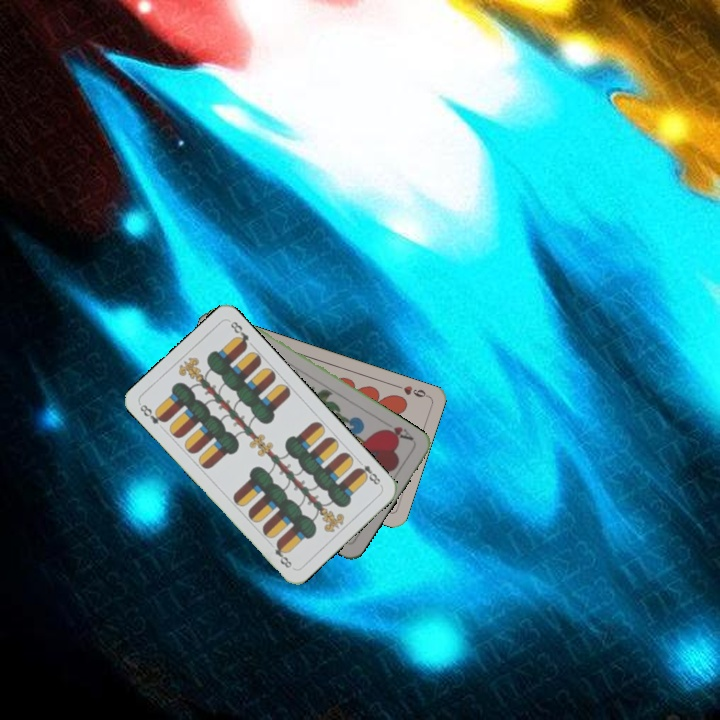E8: (352, 456, 383, 487), (136, 400, 169, 427)
H9: (391, 381, 431, 400)
HA: (378, 422, 416, 444)
